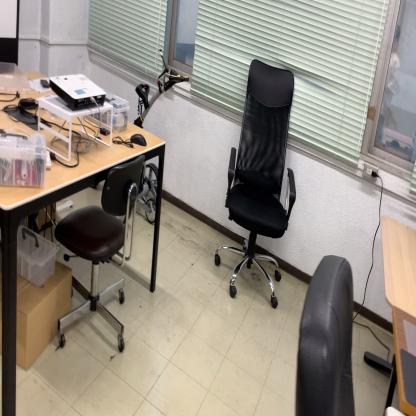chair: (212, 57, 298, 312), (49, 152, 146, 353), (293, 256, 361, 416)
